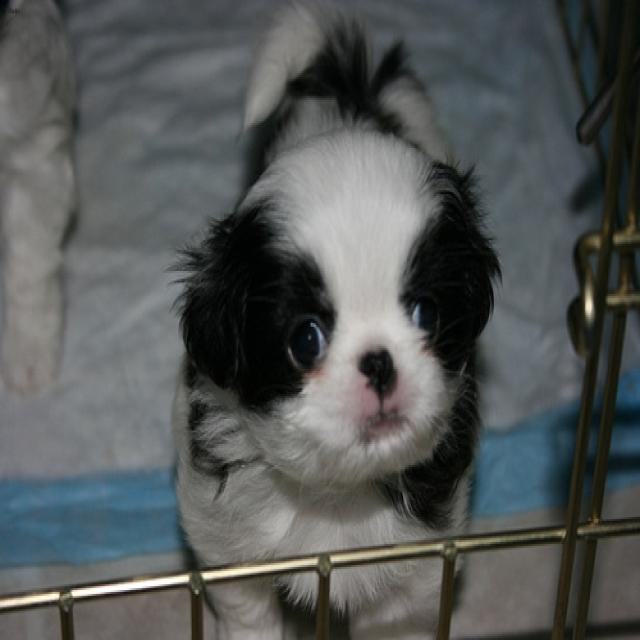dog-japanese_chin: (159, 2, 509, 636)
